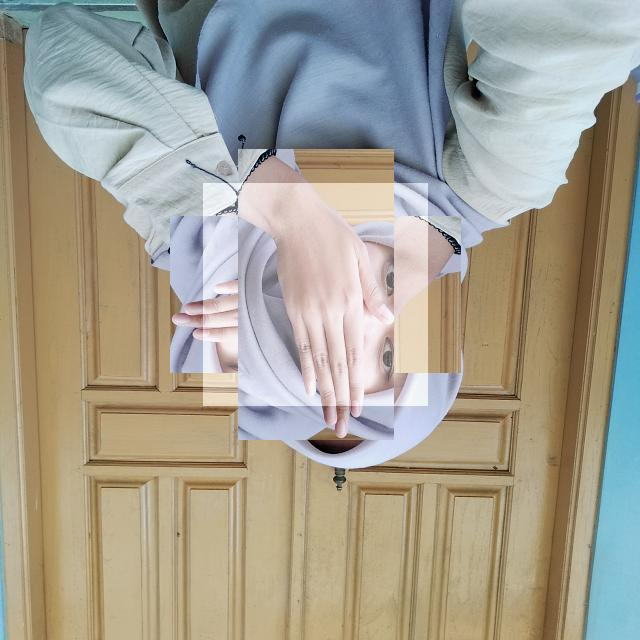buruk: (203, 183, 428, 406)
